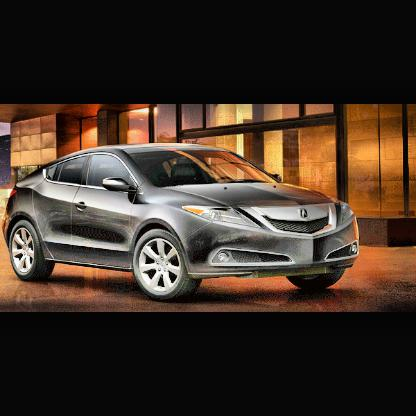Acura ZDX Hatchback 2012: (4, 146, 361, 300)
